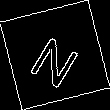N_NE: (25, 23, 85, 87)
